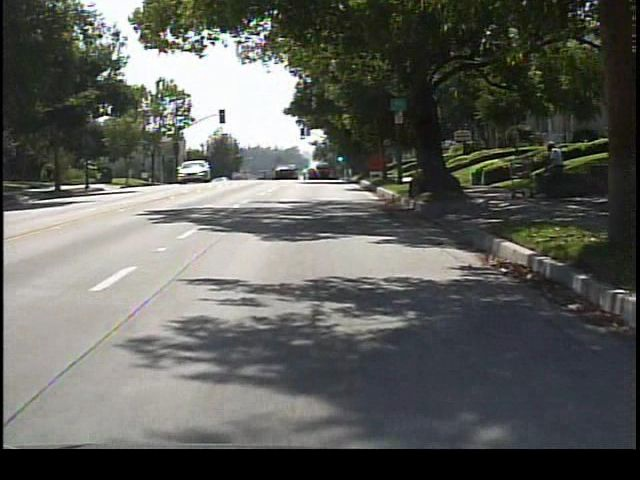person: (536, 138, 568, 205)
